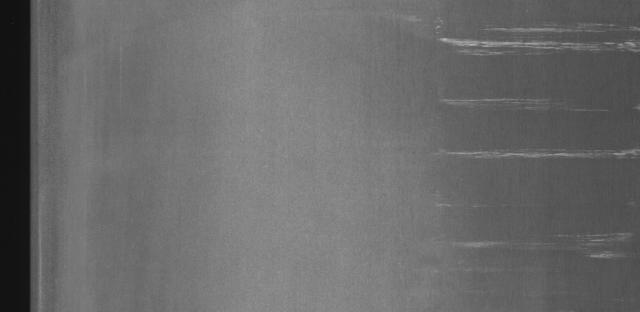waist_folding: (434, 9, 640, 269)
